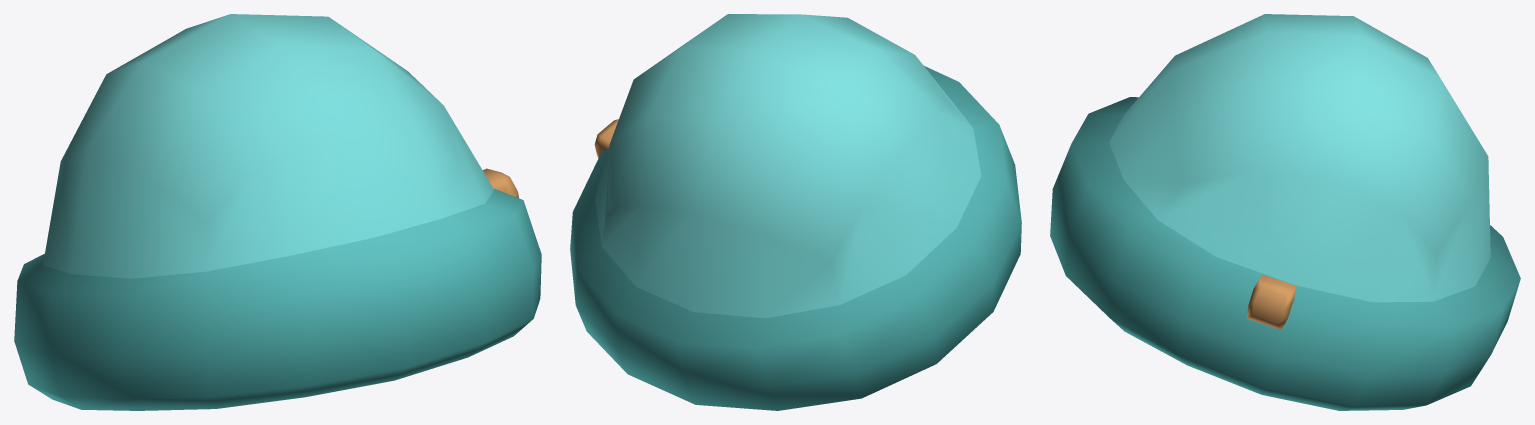
The model's file is Headgear_6.fbx.
The picture shows the model from 3 angles, left to right: view 1: azimuth 30°, elevation 25°; view 2: azimuth 150°, elevation 25°; view 3: azimuth 270°, elevation 25°; orthographic projection. The views are drawn at different scales.
Parts seen in each view (by area): view 1: Headgear_6; view 2: Headgear_6; view 3: Headgear_6.
Part boxes in pixels (left/top/right/bottom): Headgear_6: left=14, top=14, right=541, bottom=410; Headgear_6: left=570, top=14, right=1021, bottom=410; Headgear_6: left=1050, top=14, right=1520, bottom=410.
Size of the model in its own units: 71.93 by 55.53 by 71.69.
